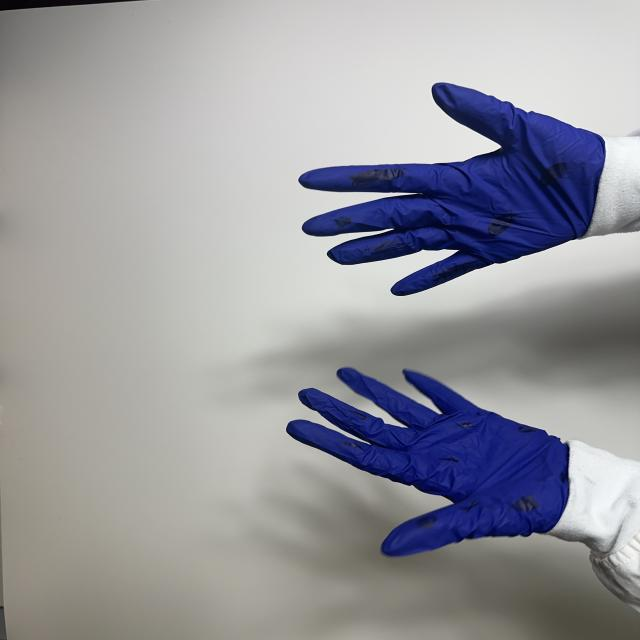gloves_contaminated: (294, 80, 613, 300), (280, 359, 579, 560)
